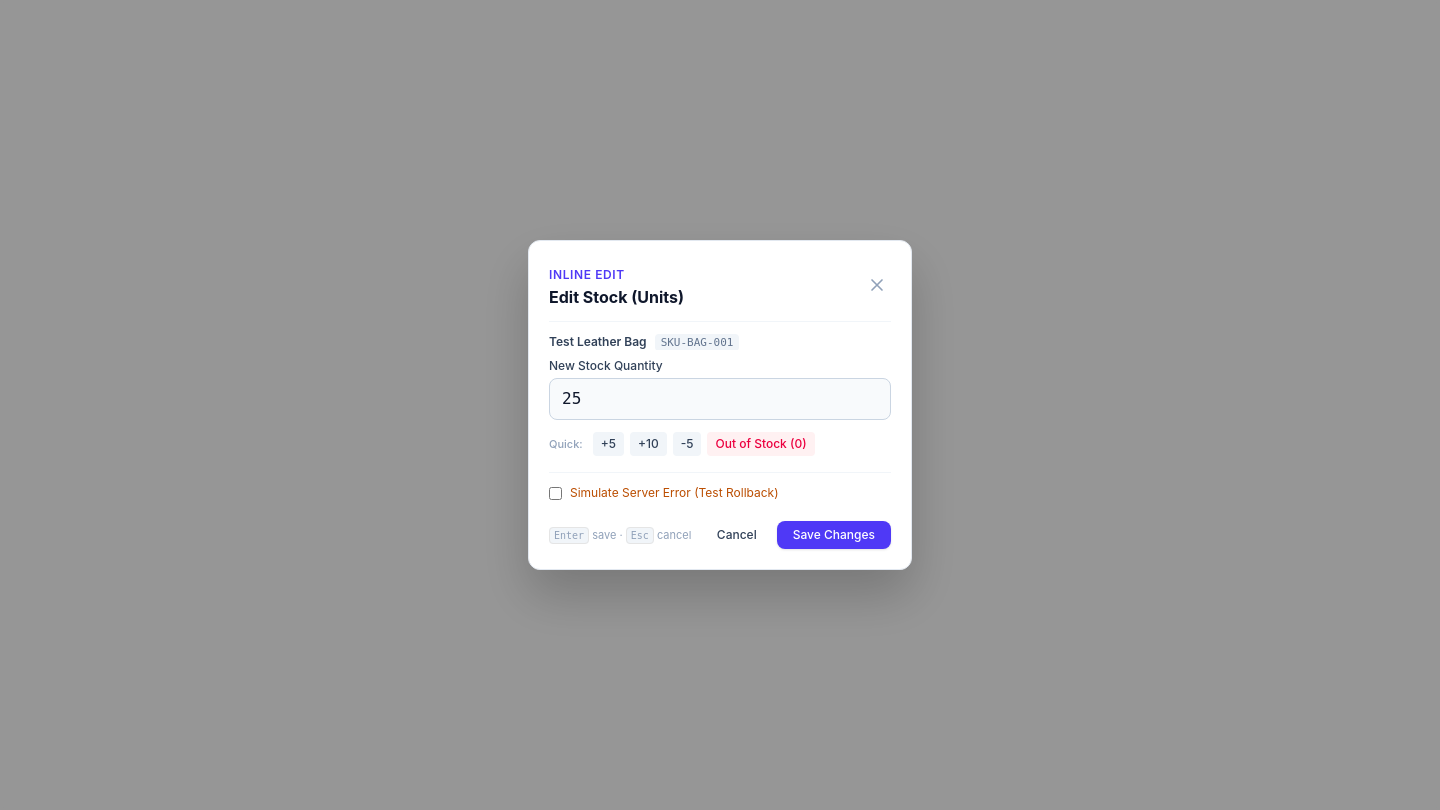
Test: InlineEditPopover Component › handles quick adjustment preset buttons
Expected: the heading "Edit Stock (Units)" is shown, [549, 285, 684, 309]
Expected: the number field with placeholder "Enter value..." holds "25", [549, 378, 891, 420]
Note: Click +10 quick button
Click the button "+10" at (648, 444), box [630, 432, 667, 456]
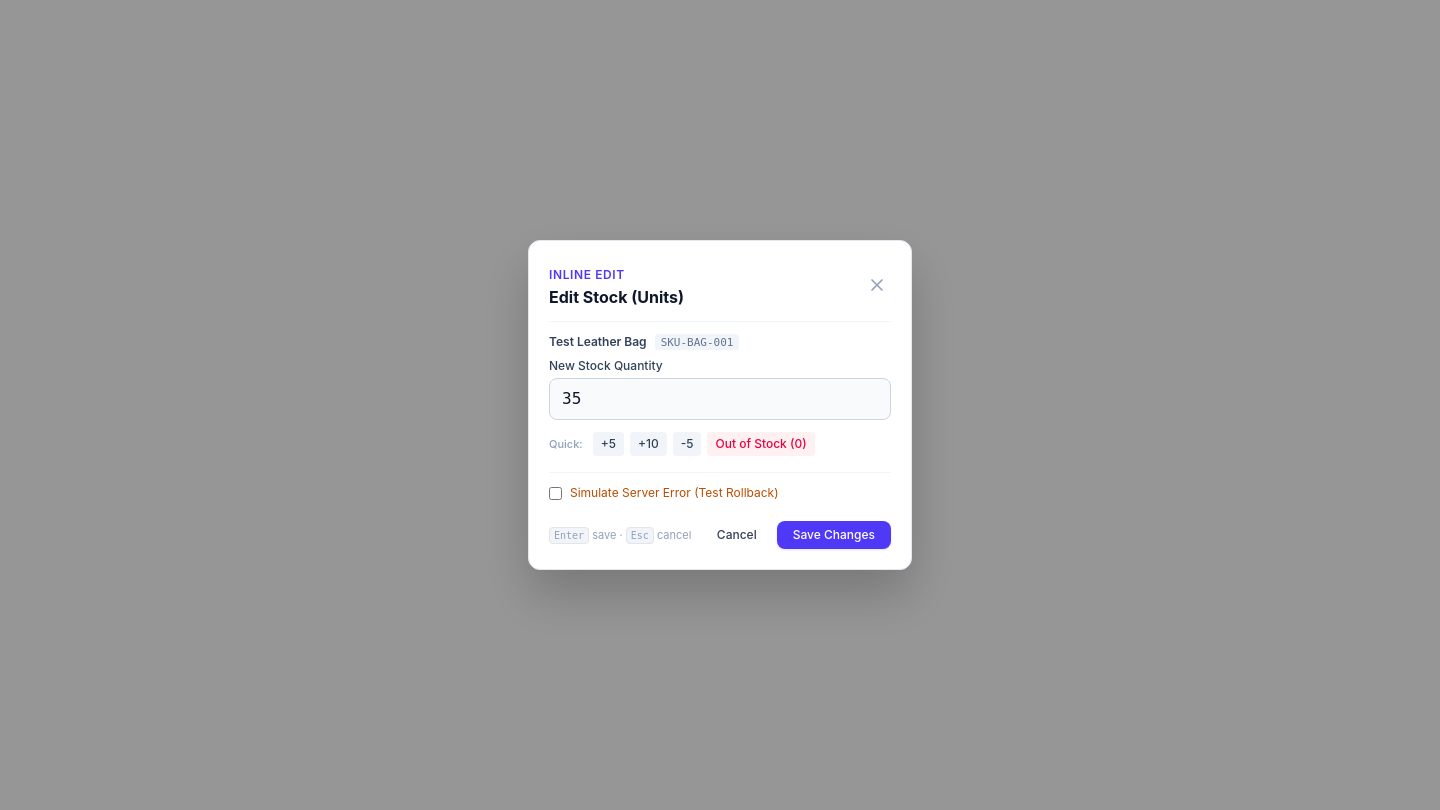
Now the number field with placeholder "Enter value..." holds "35", box [549, 378, 891, 420]
Note: Click Out of Stock (0)
Click the button "Out of Stock (0)" at (761, 444), box [708, 432, 815, 456]
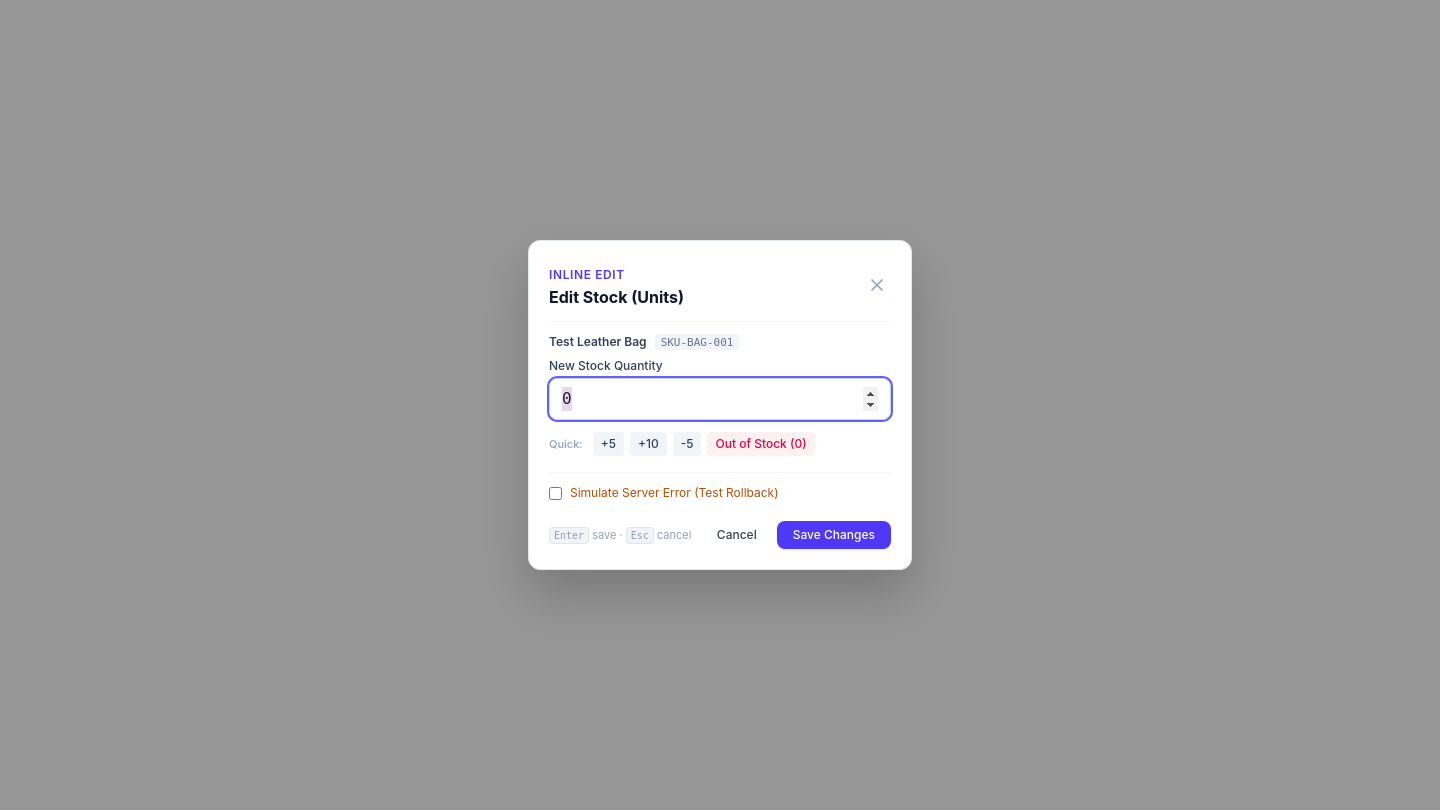
Now the number field with placeholder "Enter value..." holds "0", box [549, 378, 891, 420]
